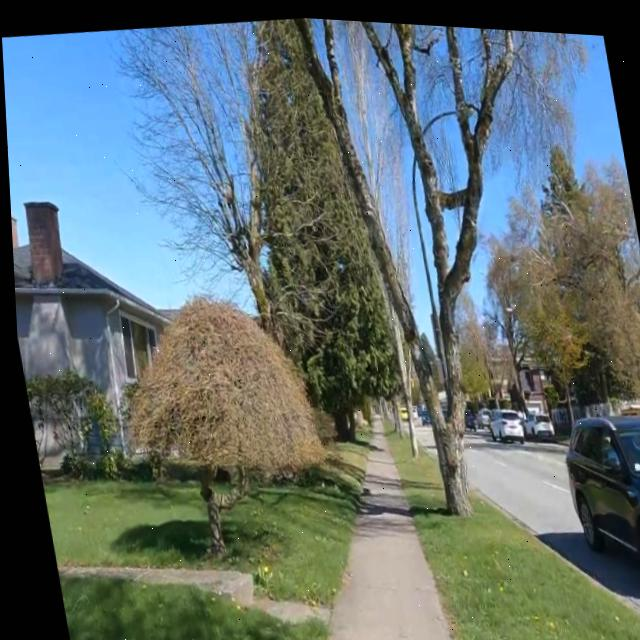Automobile: (560, 408, 640, 563), (485, 403, 519, 434), (520, 397, 549, 432), (460, 399, 471, 423), (472, 402, 483, 422), (414, 401, 425, 419)
Road: (461, 429, 640, 606)
Sidewalk: (320, 417, 446, 640)
